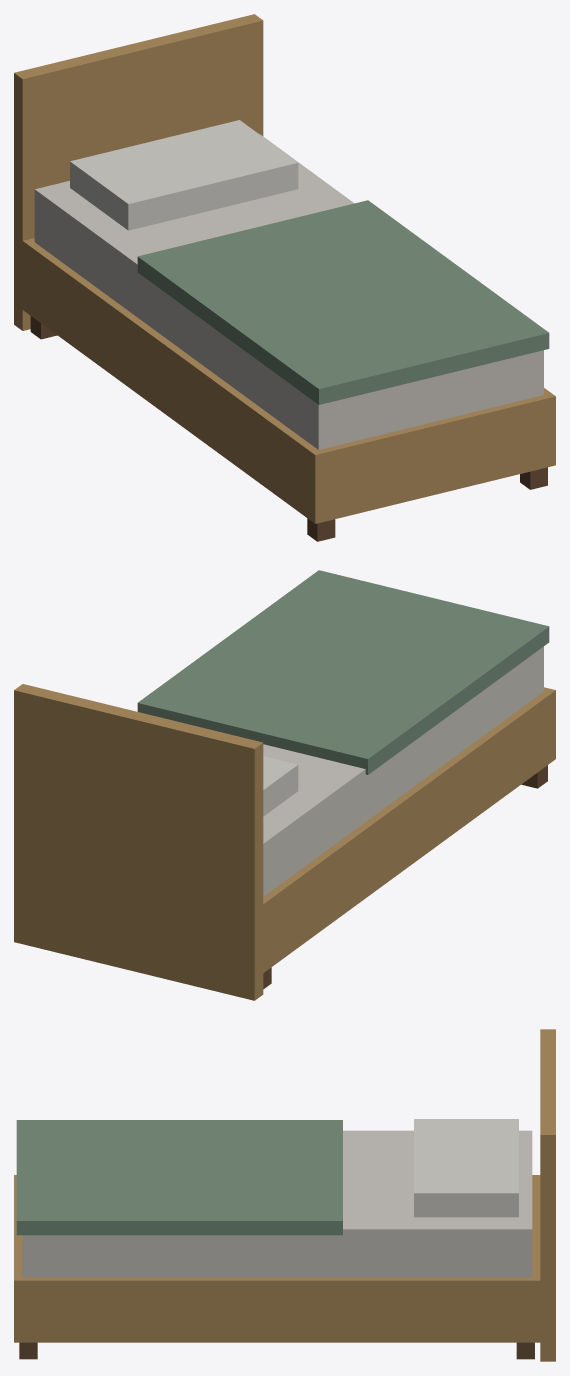
The model's file is bed_single.glb.
3 views of the same model, one above another, from view 1: azimuth 30°, elevation 25°; view 2: azimuth 150°, elevation 25°; view 3: azimuth 270°, elevation 25° (orthographic). The views are drawn at different scales.
Parts seen in each view (by area): view 1: bed_single; view 2: bed_single; view 3: bed_single.
Part boxes in pixels (box(x1,y1,x2,y2)): bed_single: box(14, 14, 555, 541); bed_single: box(14, 570, 555, 1000); bed_single: box(14, 1029, 555, 1361).
Size of the model in its own units: 0.95 by 0.95 by 2.06.
